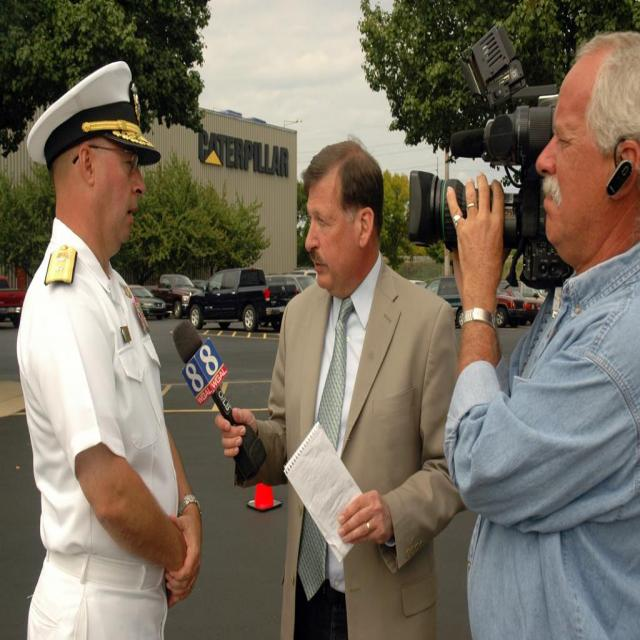nomask: (538, 74, 612, 262), (94, 117, 144, 265), (304, 175, 352, 291)
